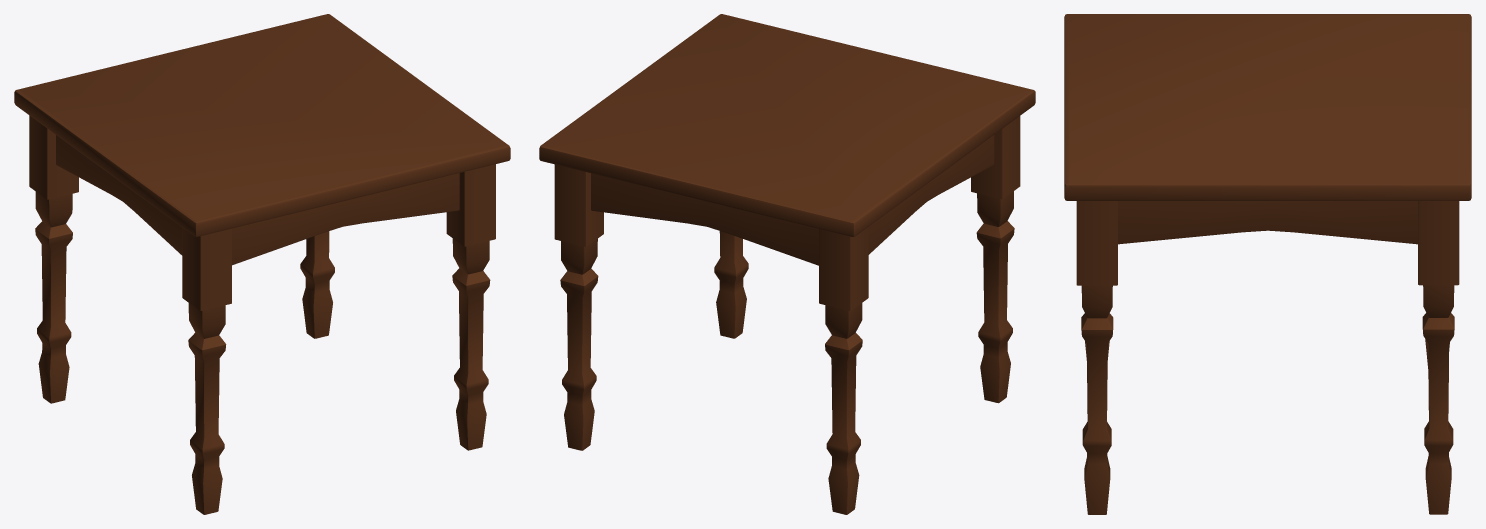
File: Table.fbx
3 renders of one model, left to right at view 1: azimuth 30°, elevation 25°; view 2: azimuth 150°, elevation 25°; view 3: azimuth 270°, elevation 25°, orthographic. The views are drawn at different scales.
Visible parts, largest first — view 1: stółUV; view 2: stółUV; view 3: stółUV.
Part boxes in pixels (box(x1,y1,x2,y2)): stółUV: box(14, 14, 510, 514); stółUV: box(539, 14, 1035, 514); stółUV: box(1064, 14, 1471, 514).
Bounding box in the file's own units: 91.02 × 83.84 × 91.02.
